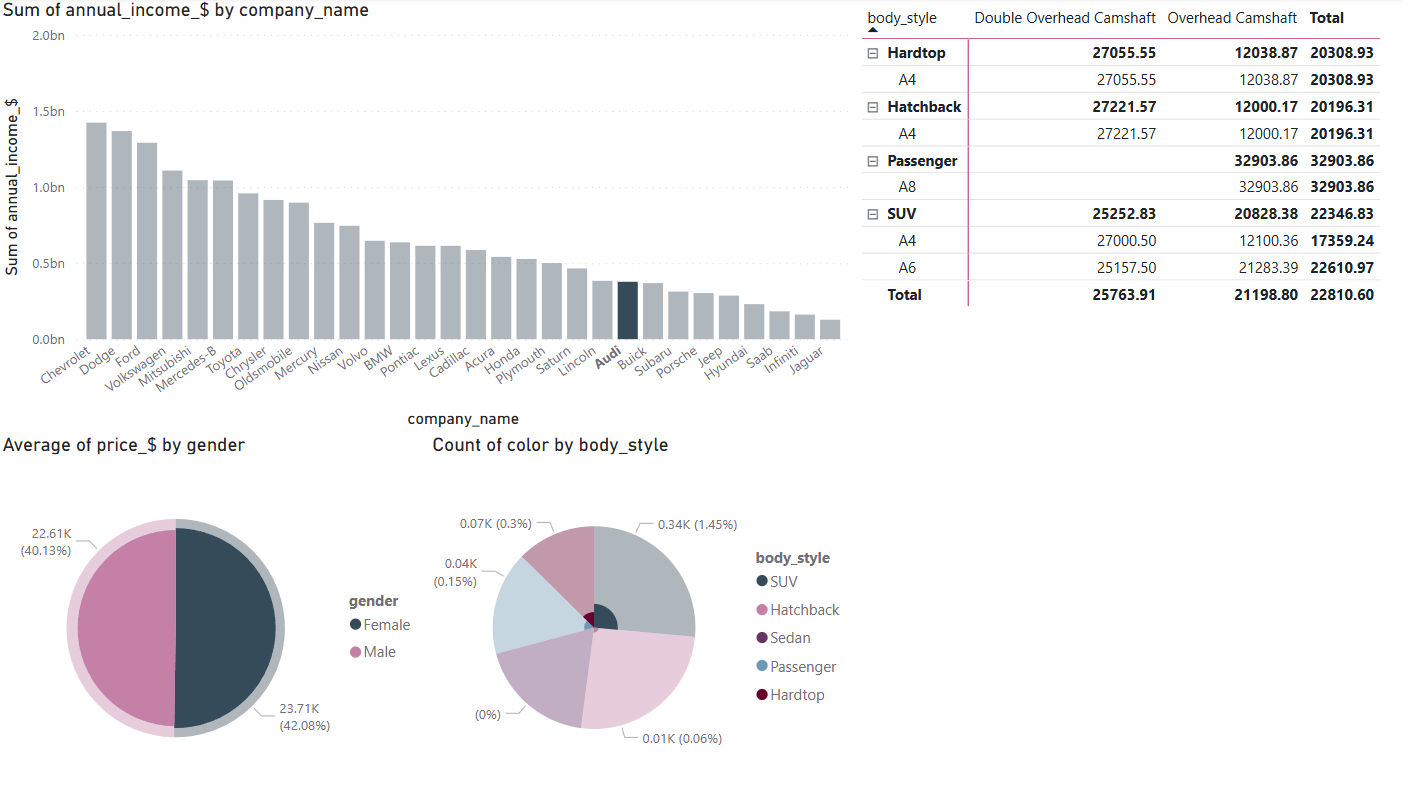

The dashboard page shown, as its layout file describes it:
{"tool":"powerbi","page":{"name":"Page 1","canvas":[1280,720],"ordinal":0},"visuals":[{"type":"pieChart","fields":{"Category":["golden_data.gender"],"Y":["Avg(golden_data.price_$)"]},"box":[0,389.6,385.1,330.4],"z":0},{"type":"pivotTable","fields":{"Rows":["golden_data.body_style","golden_data.model"],"Columns":["golden_data.engine"],"Values":["Avg(golden_data.price_$)"]},"box":[769.3,0,510.4,719.1],"z":1},{"type":"actionButton","box":[0,0,100,40],"z":2},{"type":"columnChart","fields":{"Category":["golden_data.company_name"],"Y":["Sum(golden_data.annual_income_$)"]},"box":[0,0,769.3,389.6],"z":3},{"type":"pieChart","fields":{"Category":["golden_data.body_style"],"Y":["CountNonNull(golden_data.color)"]},"box":[385.1,389.6,384.2,329.6],"z":4}]}

Visuals, with their boxes in screenshot pixels (x1, y1, x2, y2), scaled from the page's 1280x720 canvas onto the 1403x785 screenshot:
pieChart - golden_data.gender x Avg(golden_data.price_$): <region>0, 425, 422, 784</region>
pivotTable - golden_data.body_style x golden_data.model: <region>843, 0, 1402, 784</region>
actionButton: <region>0, 0, 110, 44</region>
columnChart - golden_data.company_name x Sum(golden_data.annual_income_$): <region>0, 0, 843, 425</region>
pieChart - golden_data.body_style x CountNonNull(golden_data.color): <region>422, 425, 843, 784</region>
